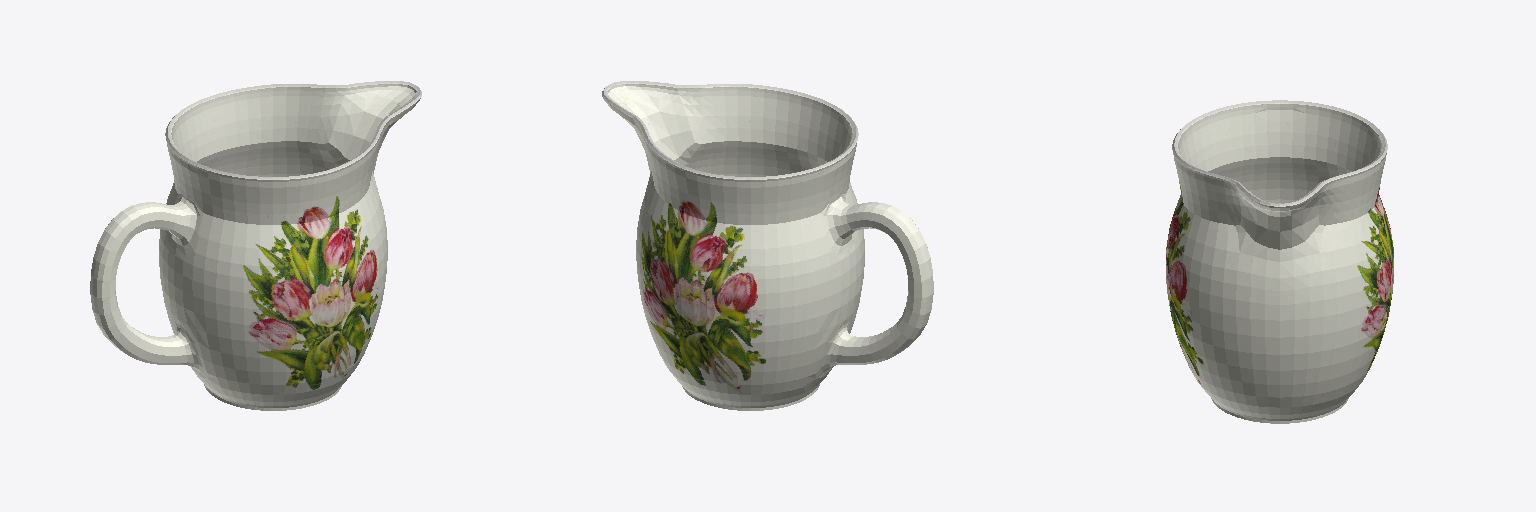
3 renders of one model, left to right at view 1: azimuth 30°, elevation 25°; view 2: azimuth 150°, elevation 25°; view 3: azimuth 270°, elevation 25°, orthographic.
Parts seen in each view (by area): view 1: jug_01; view 2: jug_01; view 3: jug_01.
Part boxes in pixels (x1,y1,x2,y2): jug_01: (90,81,421,410); jug_01: (602,81,933,410); jug_01: (1166,100,1393,423).
Bounding box in the file's own units: 0.2753 × 0.2113 × 0.1675.
Materials: 1 (1 with a texture image).